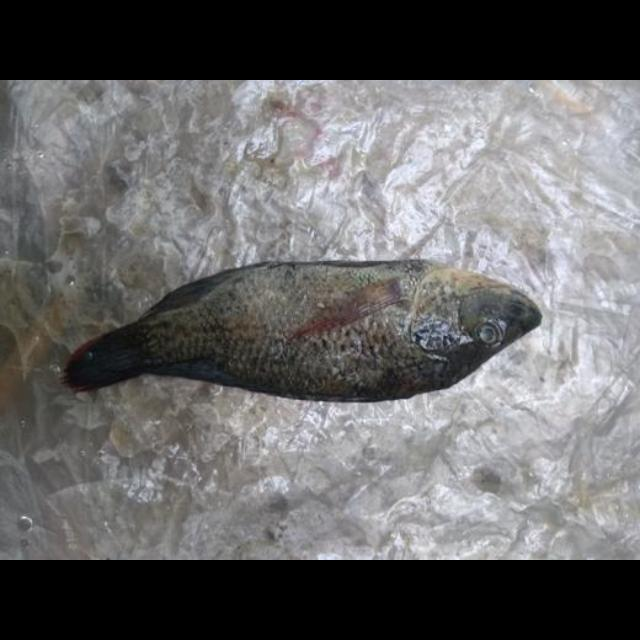Tilapia: (58, 257, 540, 403)
